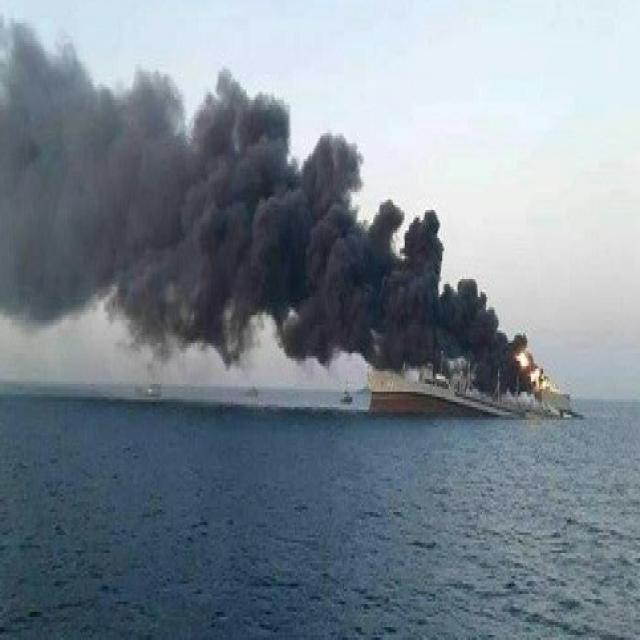navalvessels: (366, 309, 544, 426)
